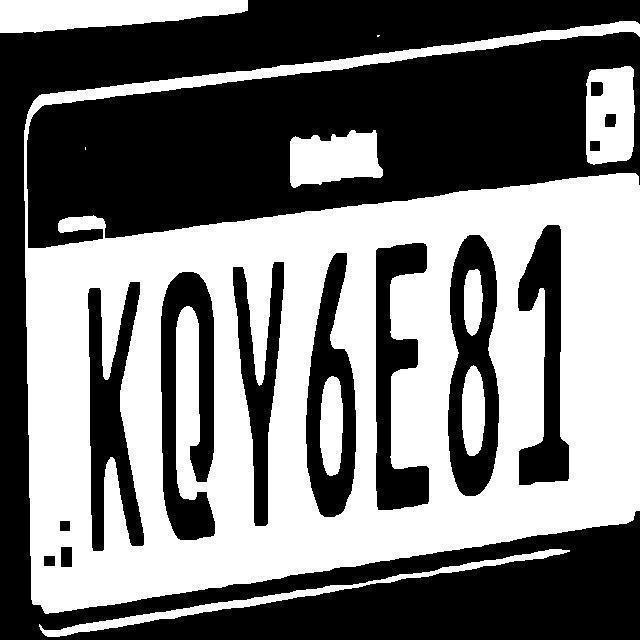1: (514, 207, 586, 519)
6: (290, 230, 360, 536)
8: (440, 215, 510, 546)
e: (352, 222, 438, 554)
k: (61, 249, 137, 573)
q: (151, 266, 227, 542)
y: (221, 230, 292, 549)
